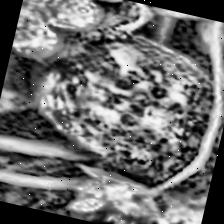Powdery Mildew Fruit: (14, 14, 224, 198)
